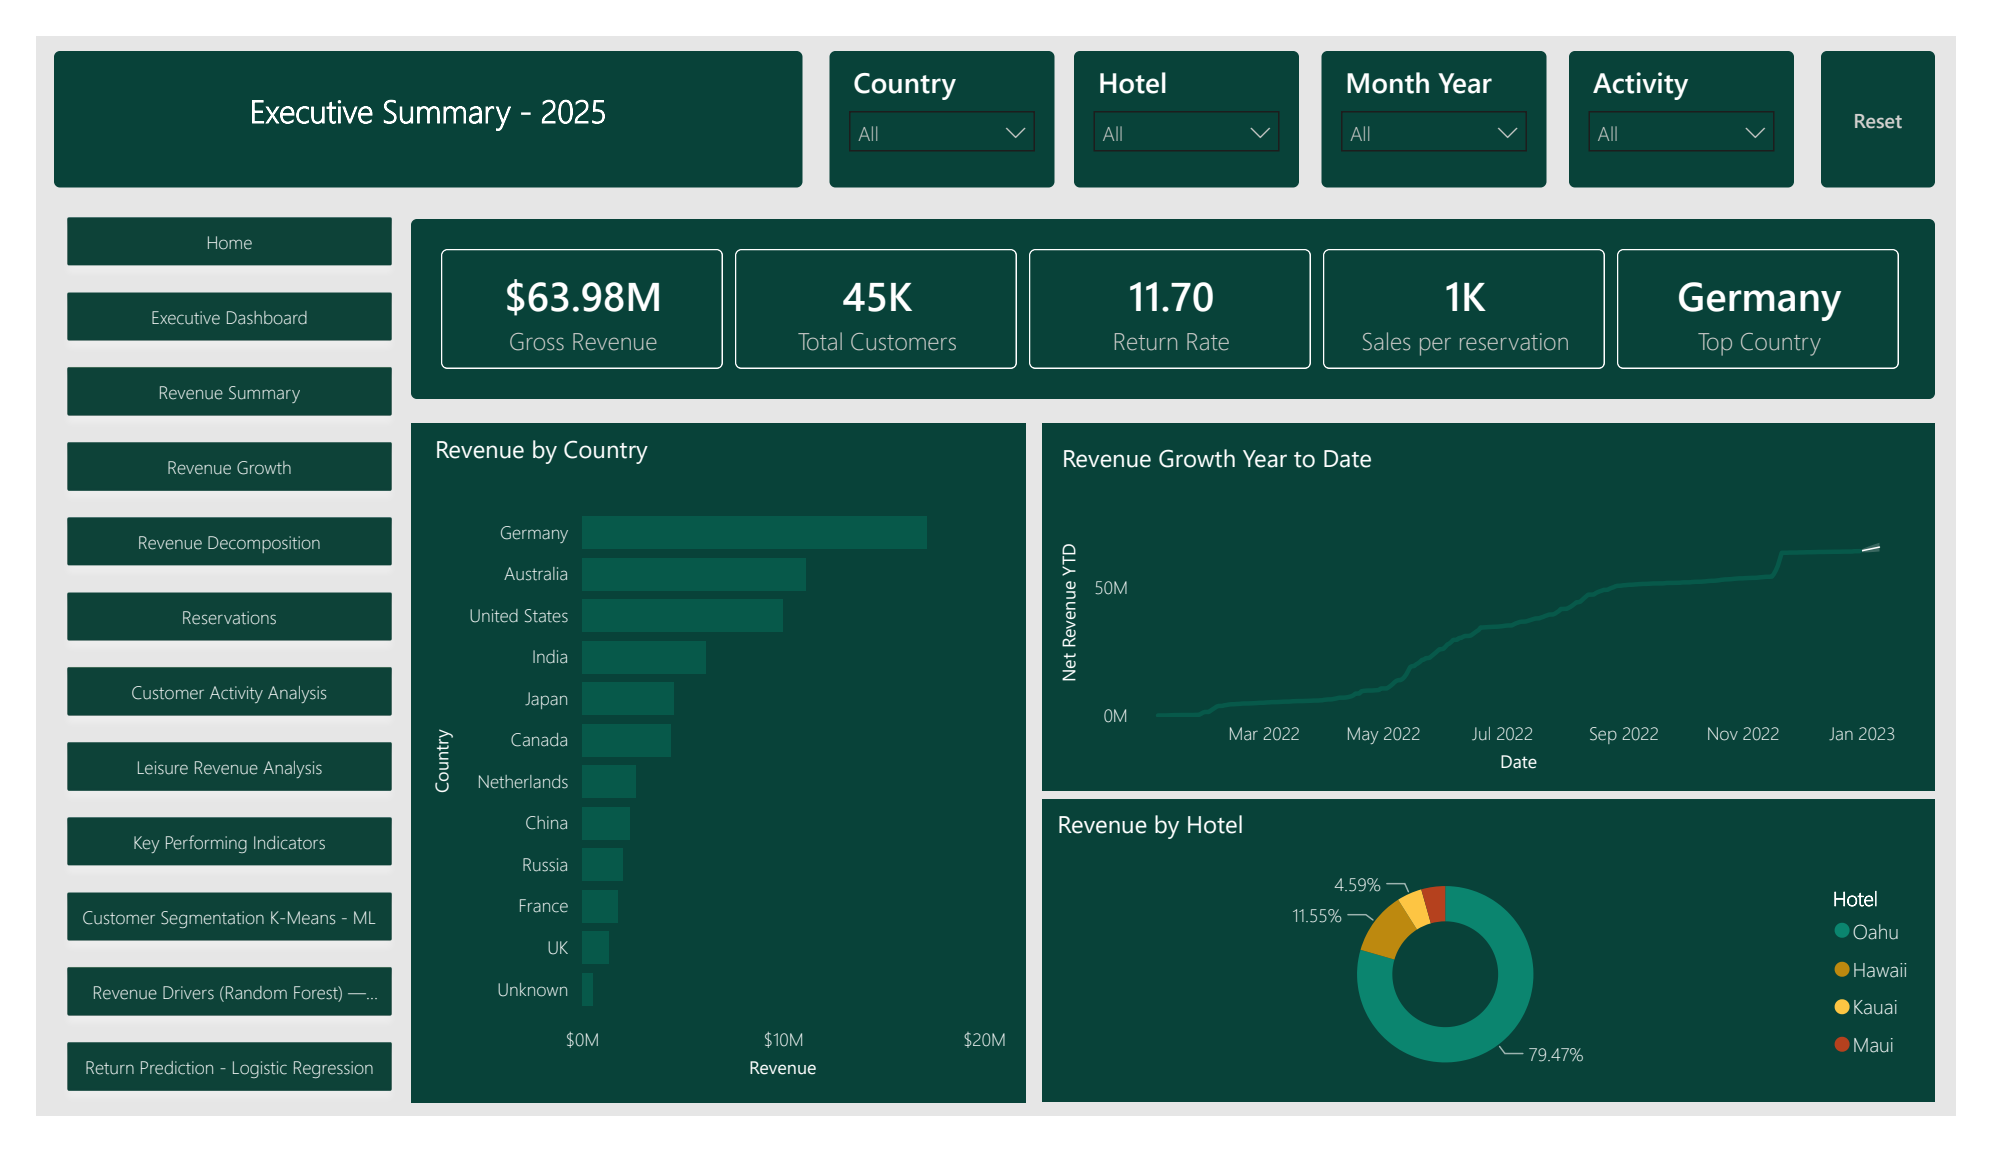

Layout of this report page (visuals, bound fields, positions):
{"tool":"powerbi","page":{"name":"Executive Dashboard","canvas":[1280,720],"ordinal":1},"visuals":[{"type":"shape","box":[670.6,509,595.2,202],"z":0},{"type":"shape","box":[670.6,257.7,595.2,245.1],"z":1000},{"type":"shape","box":[250.5,257.7,409.4,453.4],"z":2000},{"type":"textbox","box":[11.7,9.9,499.2,90.7],"z":3000},{"type":"slicer","fields":{"Values":["Country.Country"]},"box":[528.8,9.9,150,90.7],"z":4000},{"type":"pageNavigator","box":[11.7,112.2,234.3,607.8],"z":5000},{"type":"slicer","fields":{"Values":["Hotel Visited.Hotel"]},"box":[692.2,9.9,150,90.7],"z":6000},{"type":"slicer","fields":{"Values":["Calender.MonthYear"]},"box":[857.4,9.9,150,90.7],"z":7000},{"type":"slicer","fields":{"Values":["Primary interest.Primary Interest"]},"box":[1021.6,9.9,150,90.7],"z":8000},{"type":"cardVisual","fields":{"Data":["Sum(Data.Revenue)","Calculations.Total Customers","Calculations.Return Rate %","Calculations.Sales per reservation","Calculations.Top Country"]},"box":[250.5,122.1,1015.4,120.3],"z":9000},{"type":"barChart","fields":{"Category":["Country.Country"],"Y":["Sum(Data.Revenue)"]},"box":[261.2,263.9,390.5,436.3],"z":10000},{"type":"lineChart","title":"Revenue Growth Year to Date","fields":{"Category":["Calender.Date.Variation.Date Hierarchy.Year"],"Y":["Calculations.Net Revenue YTD"]},"box":[678.7,270.2,578.2,225.3],"z":11000},{"type":"donutChart","fields":{"Category":["Hotel Visited.Hotel"],"Y":["Sum(Data.Revenue)"]},"box":[676,514.4,585.9,191],"z":12000},{"type":"actionButton","box":[1189.5,9.9,76.3,90.7],"z":13000}]}

Visuals, with their boxes in screenshot pixels (x1, y1, x2, y2), scaled from the page's 1280x720 canvas onto the 1992x1152 screenshot:
shape: (left=1044, top=814, right=1970, bottom=1138)
shape: (left=1044, top=412, right=1970, bottom=804)
shape: (left=390, top=412, right=1027, bottom=1138)
textbox: (left=18, top=16, right=795, bottom=161)
slicer - Country.Country: (left=823, top=16, right=1056, bottom=161)
pageNavigator: (left=18, top=180, right=383, bottom=1151)
slicer - Hotel Visited.Hotel: (left=1077, top=16, right=1311, bottom=161)
slicer - Calender.MonthYear: (left=1334, top=16, right=1568, bottom=161)
slicer - Primary interest.Primary Interest: (left=1590, top=16, right=1823, bottom=161)
cardVisual - Sum(Data.Revenue) x Calculations.Total Customers: (left=390, top=195, right=1970, bottom=388)
barChart - Country.Country x Sum(Data.Revenue): (left=406, top=422, right=1014, bottom=1120)
"Revenue Growth Year to Date" lineChart: (left=1056, top=432, right=1956, bottom=793)
donutChart - Hotel Visited.Hotel x Sum(Data.Revenue): (left=1052, top=823, right=1964, bottom=1129)
actionButton: (left=1851, top=16, right=1970, bottom=161)
